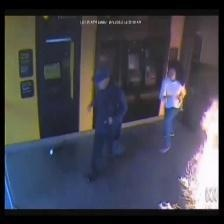fire: (172, 100, 224, 224)
